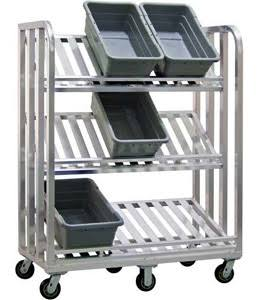Carts: (14, 18, 244, 299)
